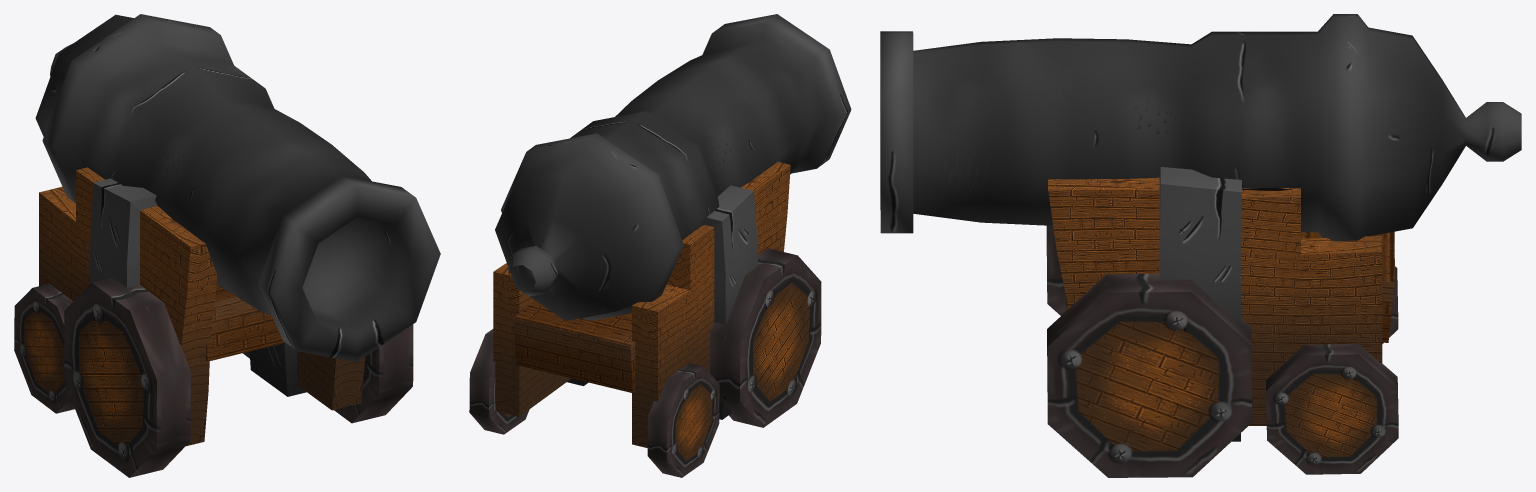
The model's file is canon.gltf.
3 renders of one model, left to right at view 1: azimuth 30°, elevation 25°; view 2: azimuth 150°, elevation 25°; view 3: azimuth 270°, elevation 25°, orthographic. The views are drawn at different scales.
Parts seen in each view (by area): view 1: Cylinder048; view 2: Cylinder048; view 3: Cylinder048.
Part boxes in pixels (box(x1,y1,x2,y2)): Cylinder048: box(14, 14, 440, 477); Cylinder048: box(469, 14, 851, 477); Cylinder048: box(880, 14, 1521, 477).
Bounding box in the file's own units: 1.05 × 1.4 × 2.06.
1 material, 1 textured.
